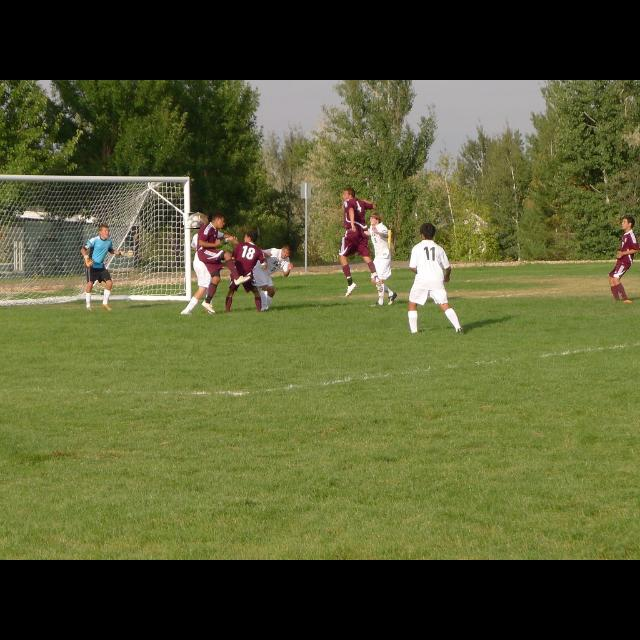Football: (184, 213, 200, 229)
